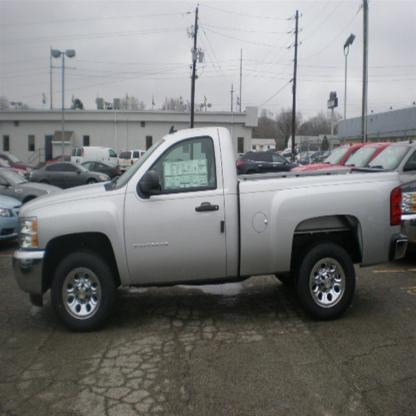Vehicle: (13, 126, 409, 333)
